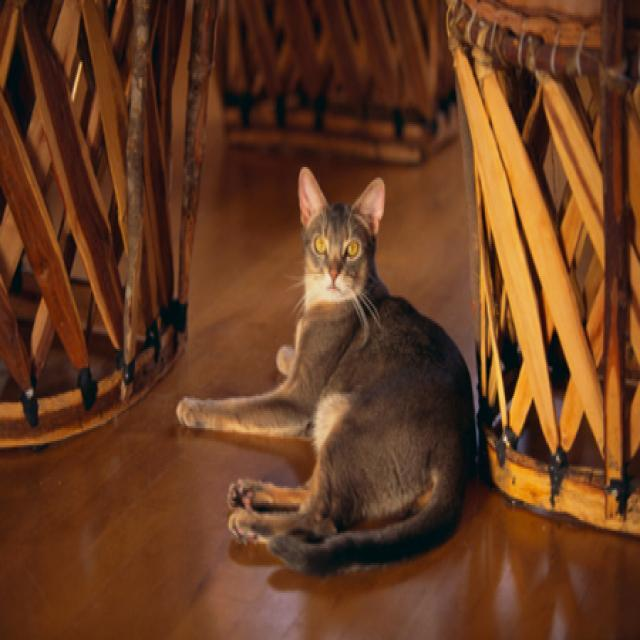Abyssinian: (294, 161, 397, 315)
